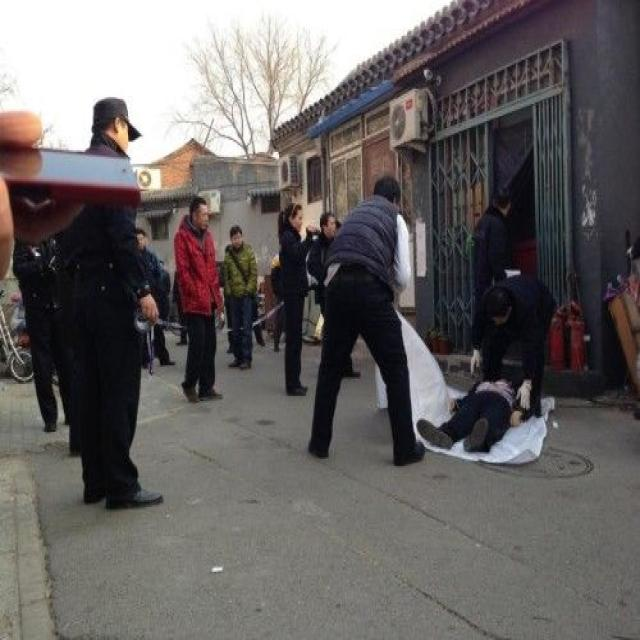fall: (417, 370, 535, 450)
